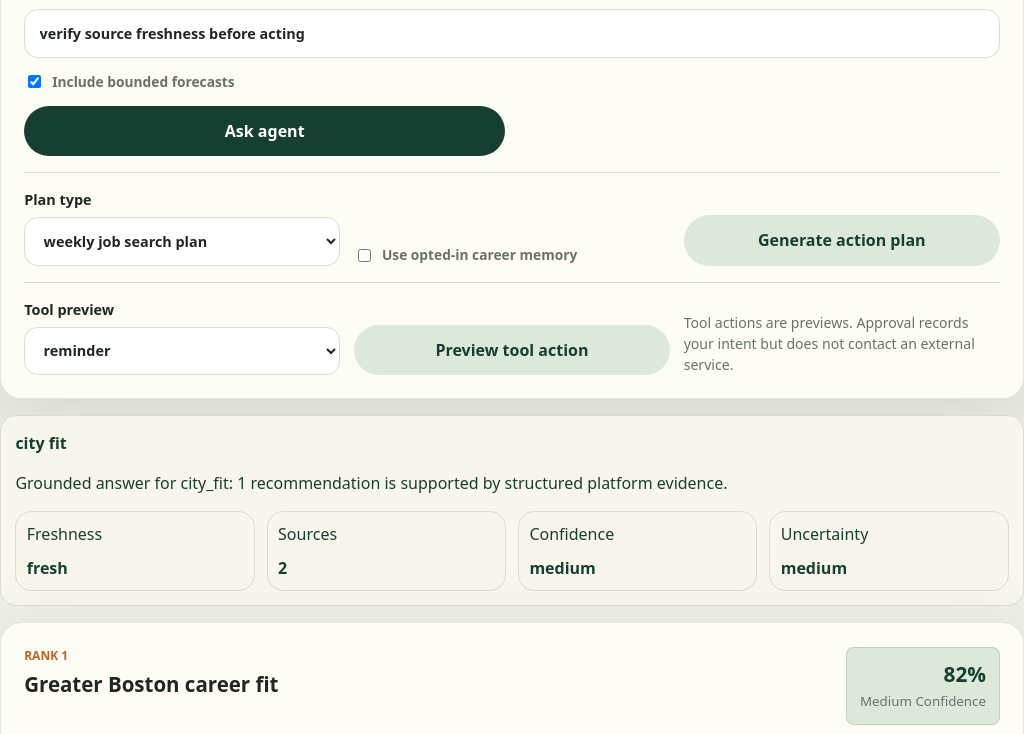
Test case: CareerAgentPage › outreach draft preview renders without send behavior
(page scrolled)
Expected: the heading "Greater Boston career fit" is shown, left=24, top=673, right=278, bottom=695
Select "outreach message draft" in the dropdown labelled "Tool preview" at x=182, y=351, box left=24, top=326, right=340, bottom=375
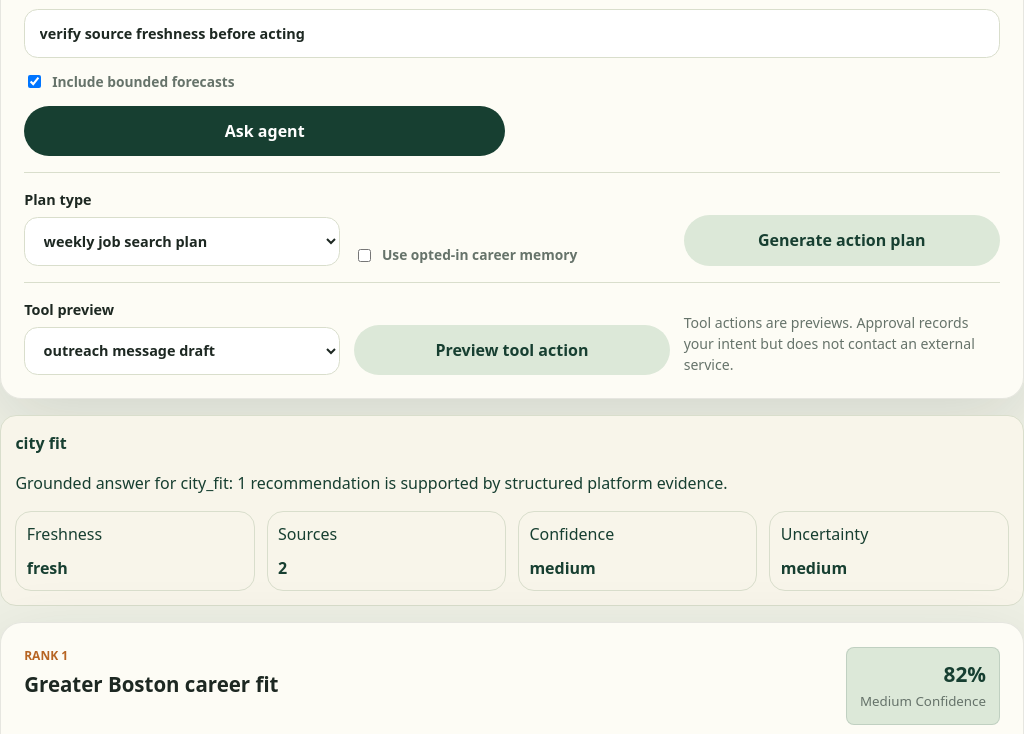
Click the button "Preview tool action" at x=512, y=350, box left=354, top=325, right=670, bottom=375
(page scrolled)
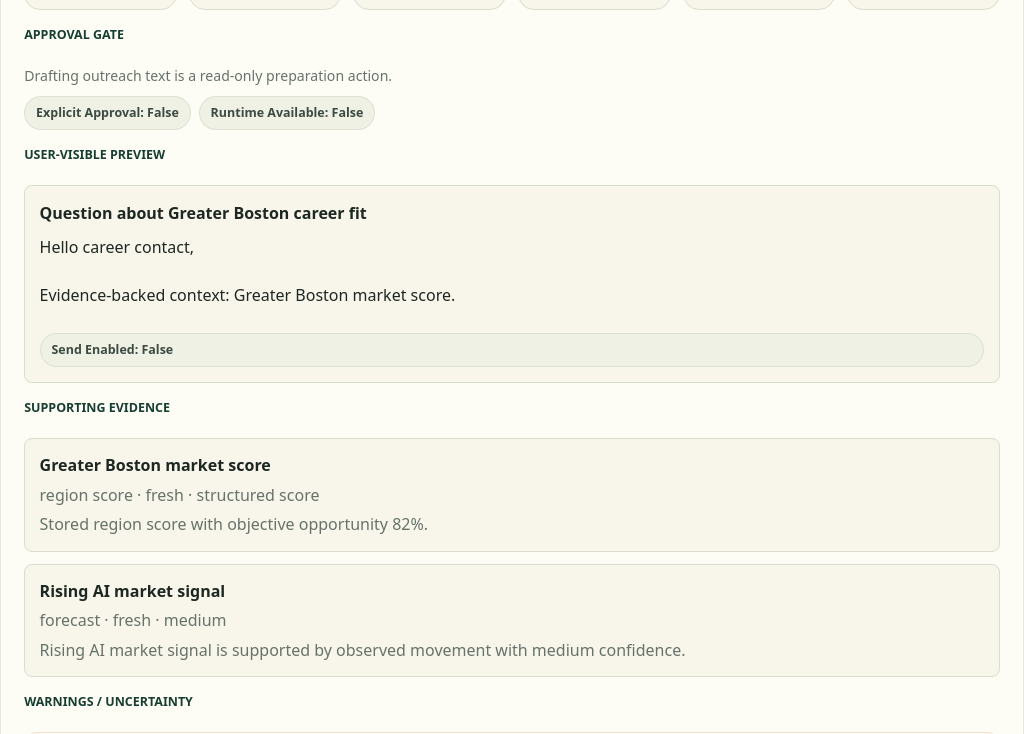
Result: the text "Question about Greater Boston career fit" is shown at left=40, top=202, right=367, bottom=224
Result: the text "Evidence-backed context: Greater Boston market score" is shown at left=40, top=236, right=455, bottom=306
Result: the text "Send enabled: false" is shown at left=40, top=333, right=984, bottom=368
